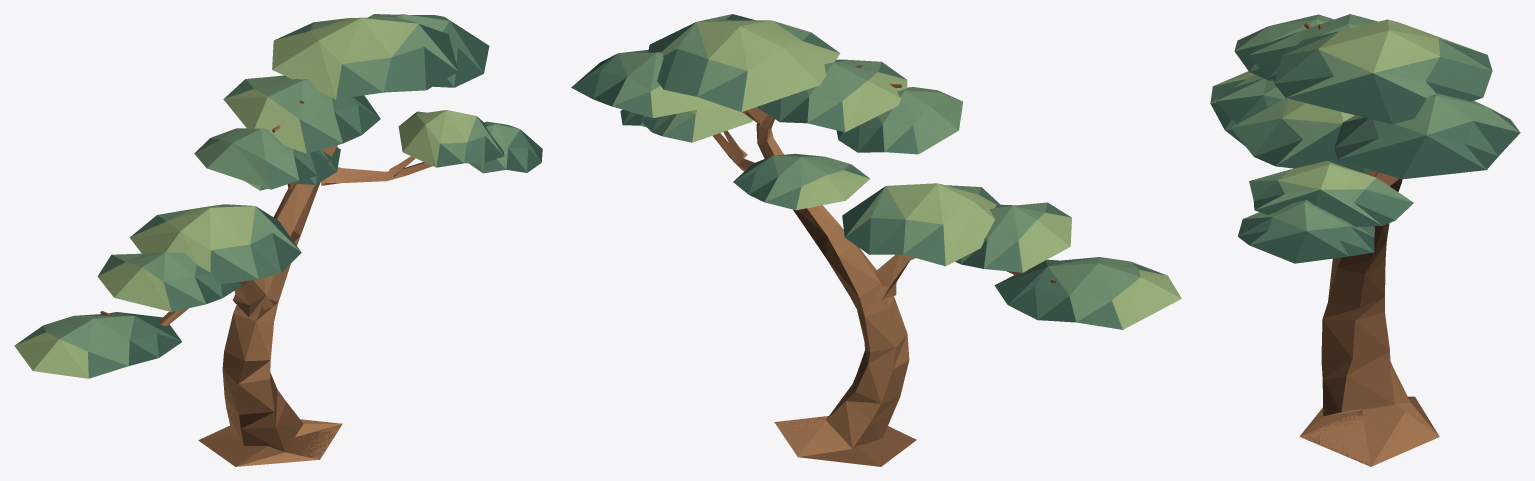
The model's file is 02_pine_tree_B.obj.
3 renders of one model, left to right at view 1: azimuth 30°, elevation 25°; view 2: azimuth 150°, elevation 25°; view 3: azimuth 270°, elevation 25°, orthographic. The views are drawn at different scales.
Parts seen in each view (by area): view 1: Pine_B_Canopy, Pine_B_Trunk; view 2: Pine_B_Canopy, Pine_B_Trunk; view 3: Pine_B_Canopy, Pine_B_Trunk.
Part boxes in pixels (x1,y1,x2,y2): Pine_B_Canopy: [14, 14, 542, 378]; Pine_B_Trunk: [100, 100, 432, 466]; Pine_B_Canopy: [571, 14, 1181, 329]; Pine_B_Trunk: [713, 64, 1056, 466]; Pine_B_Canopy: [1210, 14, 1520, 263]; Pine_B_Trunk: [1299, 23, 1439, 466].
Bounding box in the file's own units: 4.07 × 2.92 × 1.82.
Materials: 1 (1 with a texture image).
